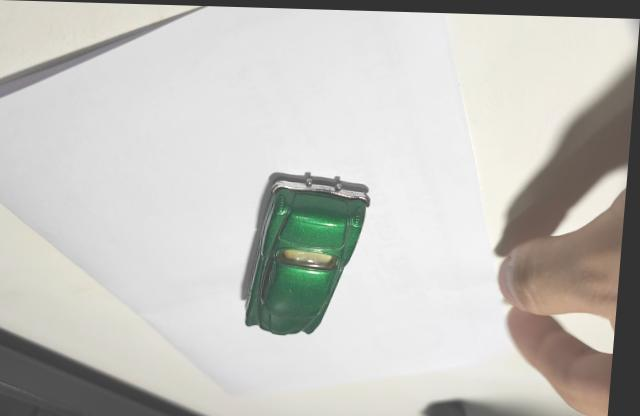06_MASERATI: (246, 170, 375, 333)
